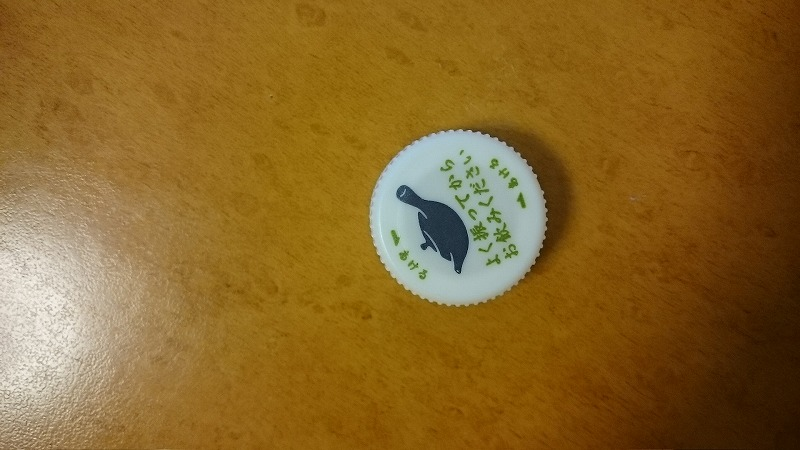A: (360, 121, 553, 313)
